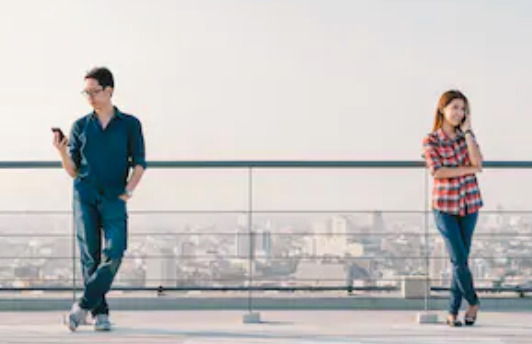Good: (53, 67, 483, 332)
